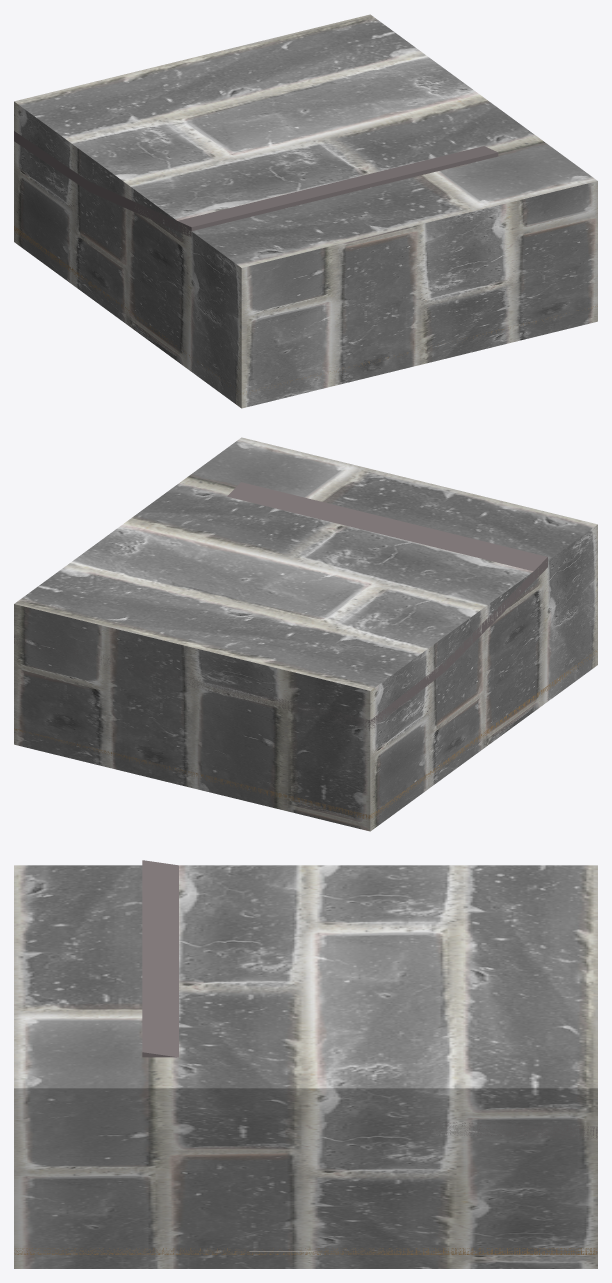
The model's file is Mini_modern_house.glb.
3 views of the same model, one above another, from view 1: azimuth 30°, elevation 25°; view 2: azimuth 150°, elevation 25°; view 3: azimuth 270°, elevation 25° (orthographic). The views are drawn at different scales.
Visible parts, largest first — view 1: Cube, Roofs, Floor; view 2: Cube, Roofs, Floor; view 3: Cube, Roofs, Floor.
Boxes of the visible parts, x1,y1,x2,y2 form: Cube: (14,14,597,408); Roofs: (14,131,498,237); Floor: (14,226,597,394); Cube: (14,437,597,831); Roofs: (14,482,547,730); Floor: (14,650,596,819); Cube: (14,865,597,1268); Roofs: (142,860,597,1139); Floor: (14,1248,597,1254).
Bounding box in the file's own units: 3.77 × 1.46 × 4.16.
11 materials, 6 textured.
